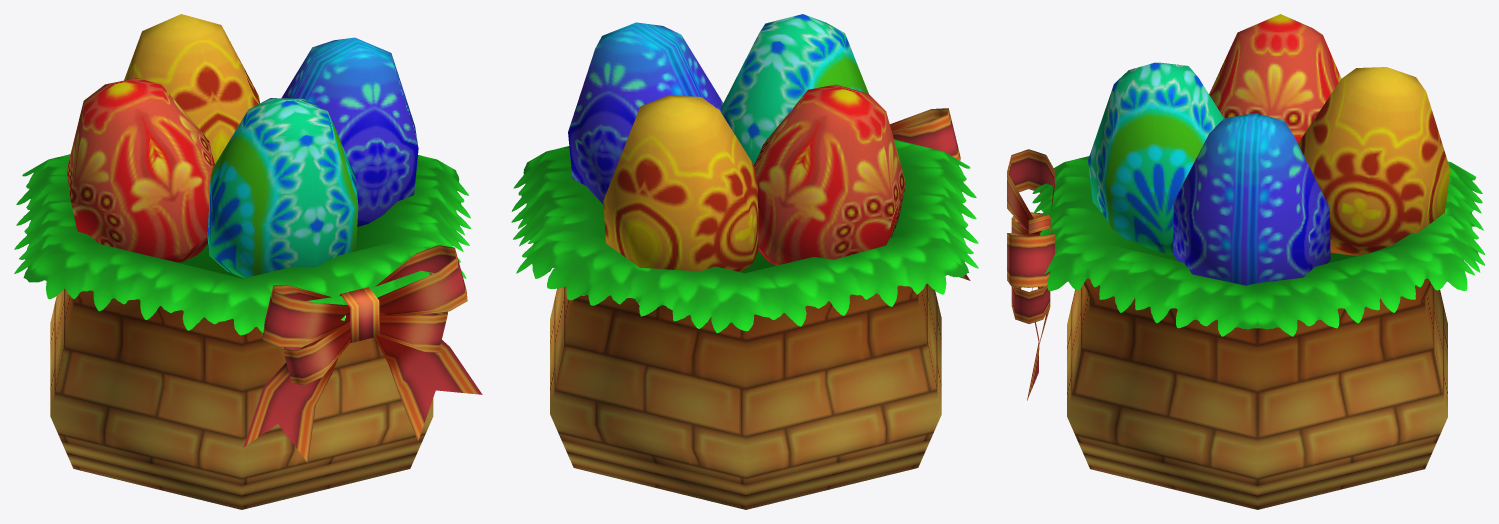
File: EggBasket_01b.FBX
3 views of the same model, side by side, from view 1: azimuth 30°, elevation 25°; view 2: azimuth 150°, elevation 25°; view 3: azimuth 270°, elevation 25° (orthographic). The views are drawn at different scales.
Visible parts, largest first — view 1: EggBasket_01, 4Eggs; view 2: EggBasket_01, 4Eggs; view 3: EggBasket_01, 4Eggs.
Part boxes in pixels (x1=…): EggBasket_01: x1=14, y1=154, x2=482, y2=509; 4Eggs: x1=66, y1=14, x2=418, y2=278; EggBasket_01: x1=511, y1=108, x2=978, y2=509; 4Eggs: x1=568, y1=14, x2=905, y2=272; EggBasket_01: x1=1007, y1=149, x2=1484, y2=509; 4Eggs: x1=1088, y1=14, x2=1450, y2=285.
Bounding box in the file's own units: 0.8536 × 0.6523 × 0.777.
